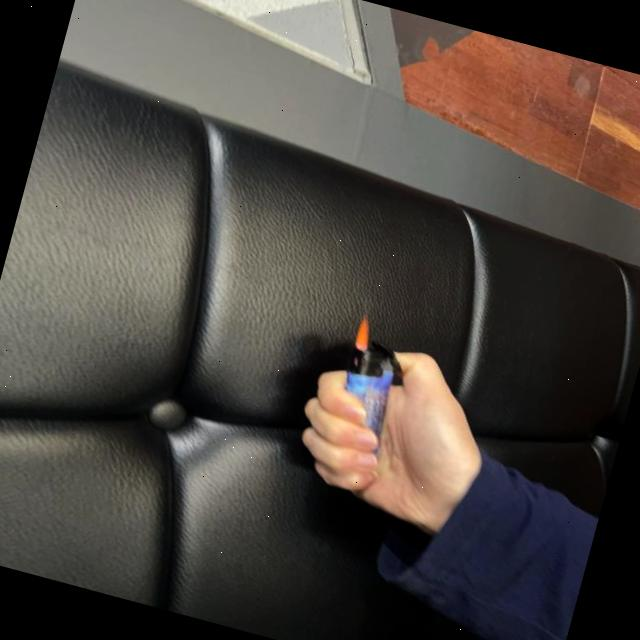fire: (349, 308, 380, 354)
